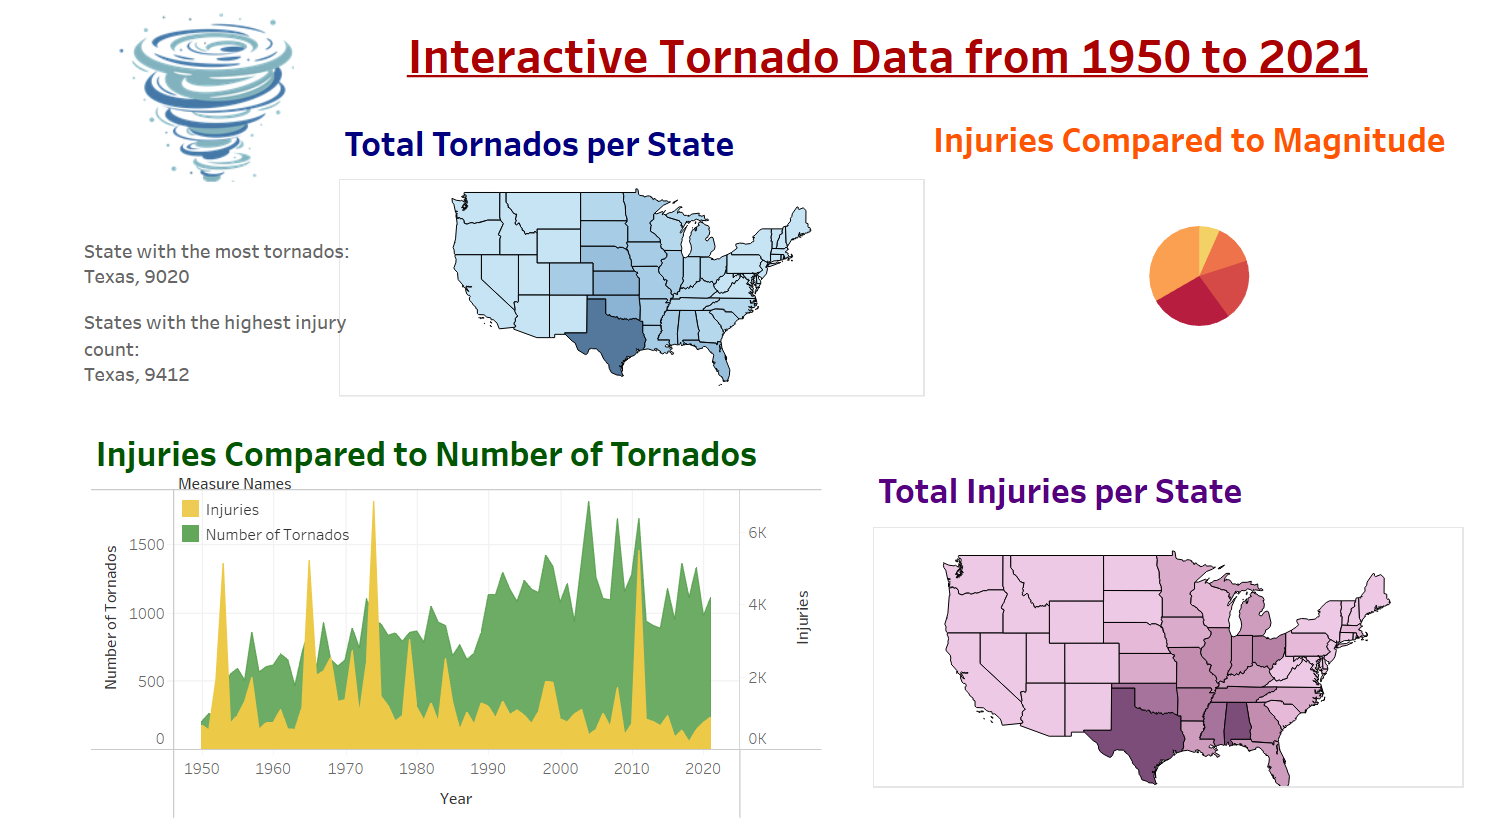

What the dashboard file says about the page in this screenshot:
{"tool":"tableau","page":{"name":"Dashboard 1","canvas":[1000,800],"ordinal":0},"visuals":[{"type":"legend","title":"injuries_vs_magnitude","param":"[federated.01s4v2z118vnv01cdhcb60sm73sf].[none:Magnitude:qk]","box":[832,8,160,46]},{"type":"text","box":[140.4,17.7,680.8,93.1]},{"type":"image","param":"Image/tornado_clipart.png","box":[35.5,44.8,135.1,134.3]},{"type":"legend","title":"injuries_vs_magnitude","param":"[federated.01s4v2z118vnv01cdhcb60sm73sf].[sum:Injuries:qk]","box":[832,54,160,65]},{"type":"worksheet","title":"injuries_vs_magnitude","mark":"Pie","box":[480.6,95.1,381.2,238.2]},{"type":"worksheet","title":"tornados_per_state","mark":"Automatic","box":[157.7,99,316.2,266.3]},{"type":"text","box":[20.4,186.2,126.8,177.9]},{"type":"worksheet","title":"injuries_vs_tornado","mark":"Area","rows":["Number of Tornados","Injuries"],"cols":["Year"],"box":[23.4,366.4,467.9,426.5]},{"type":"worksheet","title":"injuries_per_years","mark":"Automatic","box":[526,400.6,443,378.2]}]}

Visuals, with their boxes on the page's 1000x800 design canvas (x1, y1, x2, y2). These are canvas units, not pixel positions in the 1503x833 screenshot, which may show the page scaled, cropped or inside an application window:
"injuries_vs_magnitude" legend: detection(832, 8, 992, 54)
text: detection(140, 18, 821, 111)
image: detection(36, 45, 171, 179)
"injuries_vs_magnitude" legend: detection(832, 54, 992, 119)
"injuries_vs_magnitude" worksheet (Pie marks): detection(481, 95, 862, 333)
"tornados_per_state" worksheet: detection(158, 99, 474, 365)
text: detection(20, 186, 147, 364)
"injuries_vs_tornado" worksheet (Area marks): detection(23, 366, 491, 793)
"injuries_per_years" worksheet: detection(526, 401, 969, 779)
